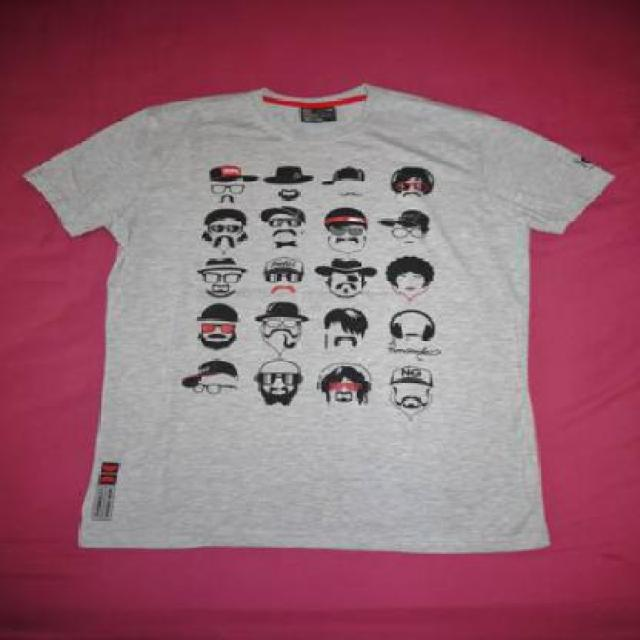shirt: (19, 82, 621, 566)
